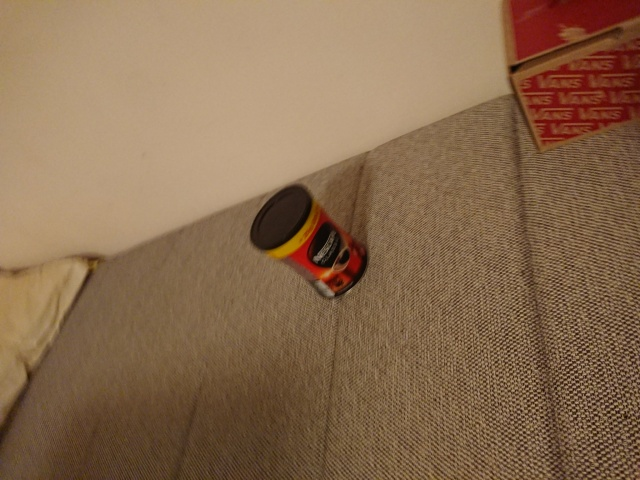Nescafe Classic 225g: (246, 180, 373, 304)
